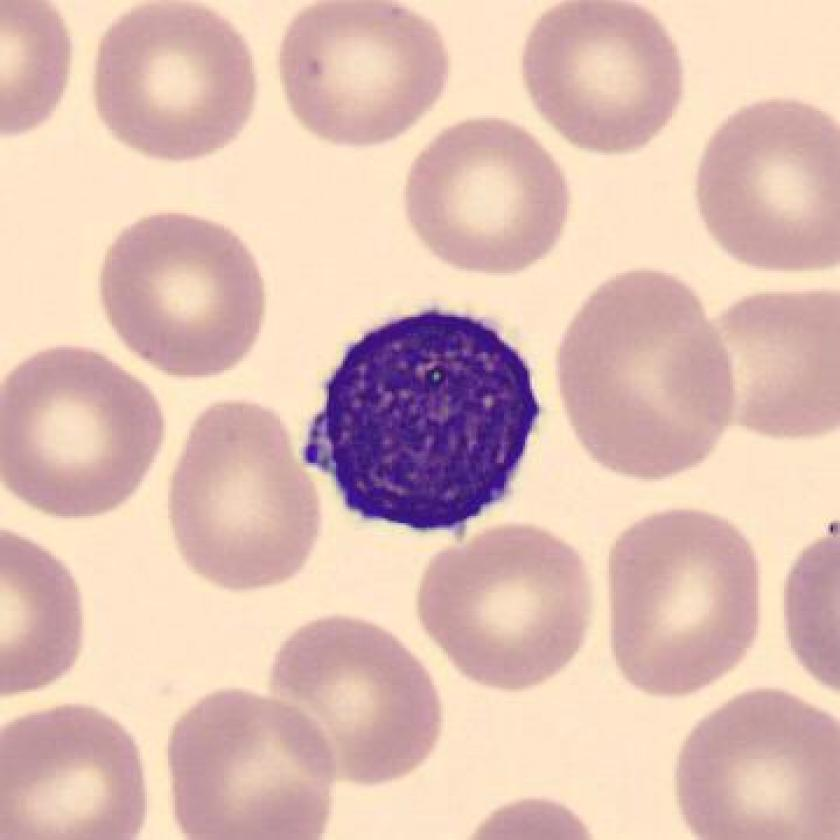lymphocyte: (295, 295, 559, 559)
